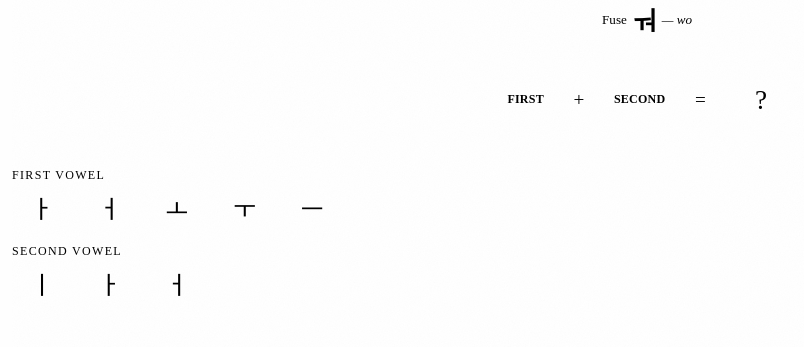
FusionStep trays › prints independent readings under filled slots, not on trays or the result
Click the radio button labelled "ㅜ" at (245, 210), box [215,187,274,232]
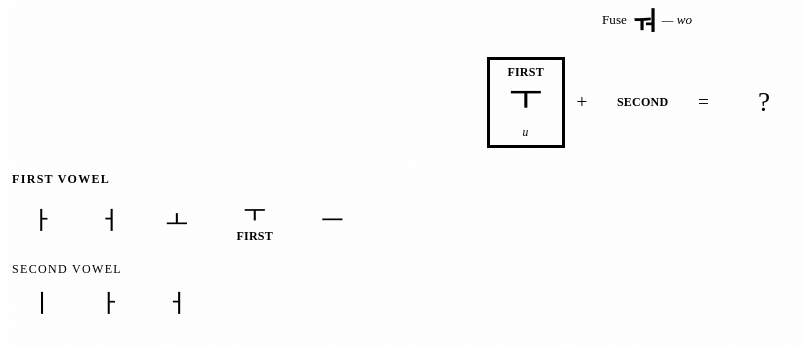
Click the radio button labelled "ㅓ" below "second vowel" at (177, 304), box [147,281,207,327]
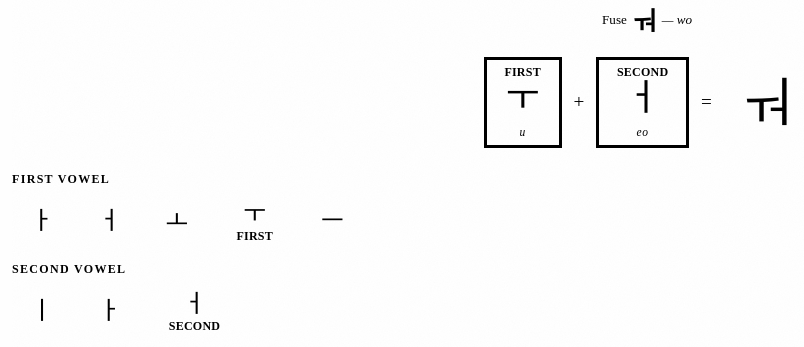
Result: the text with class "slot-reading" reads "u" at [519,126,526,138]
Result: the text with class "slot-reading" reads "eo" at [636,126,649,138]
